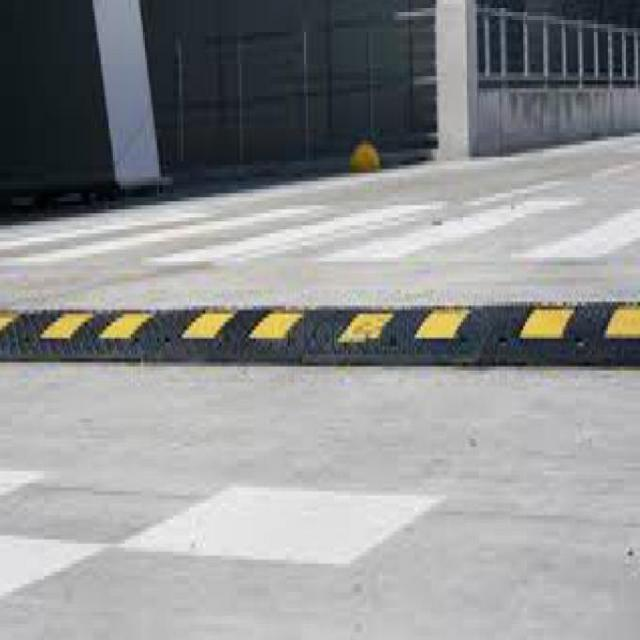speedbreaker: (0, 296, 640, 380)
